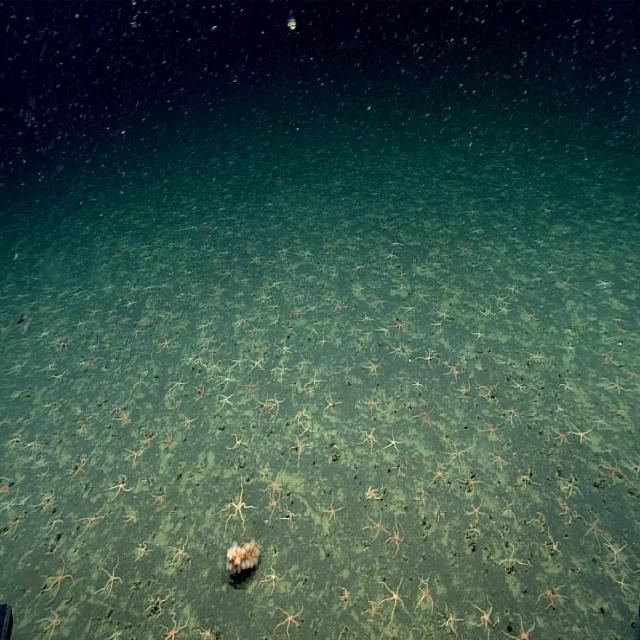brittle-stars: (222, 478, 252, 532), (44, 558, 71, 598), (381, 579, 409, 617), (95, 560, 122, 599), (275, 604, 305, 636), (580, 511, 604, 549), (503, 613, 536, 640), (602, 534, 628, 568), (469, 595, 494, 630), (258, 564, 288, 592), (75, 504, 105, 531), (162, 612, 190, 640), (598, 458, 626, 484), (168, 535, 190, 568), (39, 605, 62, 636), (363, 512, 388, 538), (538, 585, 566, 608), (611, 572, 634, 600), (147, 590, 171, 616), (428, 458, 448, 488), (109, 475, 134, 498), (34, 488, 56, 514), (443, 608, 462, 638), (555, 495, 576, 522), (388, 520, 404, 555), (264, 467, 284, 495), (320, 498, 343, 522), (558, 474, 581, 498), (475, 383, 498, 405), (416, 588, 436, 612), (448, 443, 468, 466), (125, 444, 144, 468), (570, 423, 594, 442), (366, 594, 382, 622), (413, 406, 434, 427), (604, 374, 624, 396), (481, 417, 500, 440), (71, 455, 88, 480), (7, 514, 26, 536), (266, 493, 282, 519), (386, 430, 402, 456), (361, 426, 378, 450), (466, 499, 485, 520), (268, 391, 286, 413), (490, 450, 509, 470), (503, 406, 522, 426), (366, 483, 384, 504), (418, 348, 436, 369), (625, 360, 640, 385), (291, 435, 307, 458), (135, 538, 150, 562), (511, 375, 528, 396), (516, 467, 532, 489), (171, 373, 189, 392), (218, 370, 236, 389), (363, 393, 380, 413), (462, 472, 479, 492), (455, 378, 472, 398), (180, 414, 198, 432), (272, 364, 290, 382), (255, 289, 273, 307), (552, 427, 570, 445), (390, 317, 408, 335), (194, 383, 210, 403), (297, 352, 312, 373), (257, 392, 270, 416), (337, 361, 355, 378), (230, 432, 246, 451), (218, 392, 235, 409), (289, 301, 306, 318), (196, 624, 214, 640), (230, 353, 246, 371), (325, 395, 341, 413), (365, 358, 380, 377), (446, 362, 461, 381), (241, 376, 256, 394), (383, 400, 398, 418), (528, 350, 546, 365), (560, 375, 574, 394), (628, 457, 640, 479), (298, 423, 314, 439), (24, 437, 41, 452), (561, 342, 578, 357), (294, 405, 308, 423), (38, 464, 51, 483), (151, 490, 166, 506), (118, 409, 132, 426), (389, 341, 402, 359), (143, 430, 155, 449), (160, 434, 174, 450), (158, 337, 172, 353), (416, 572, 430, 588), (250, 358, 266, 372), (492, 291, 508, 305), (207, 356, 220, 373), (78, 418, 90, 436), (131, 324, 146, 338), (377, 323, 391, 338), (480, 303, 494, 318), (247, 323, 262, 337), (270, 275, 283, 291), (411, 375, 423, 392), (87, 304, 101, 318), (202, 334, 216, 348), (373, 296, 387, 310), (196, 319, 210, 333), (435, 307, 450, 320), (107, 403, 122, 416), (498, 304, 512, 317), (107, 310, 119, 324), (332, 299, 344, 313), (165, 388, 176, 402), (300, 382, 310, 397), (394, 282, 406, 294), (36, 454, 46, 468)
